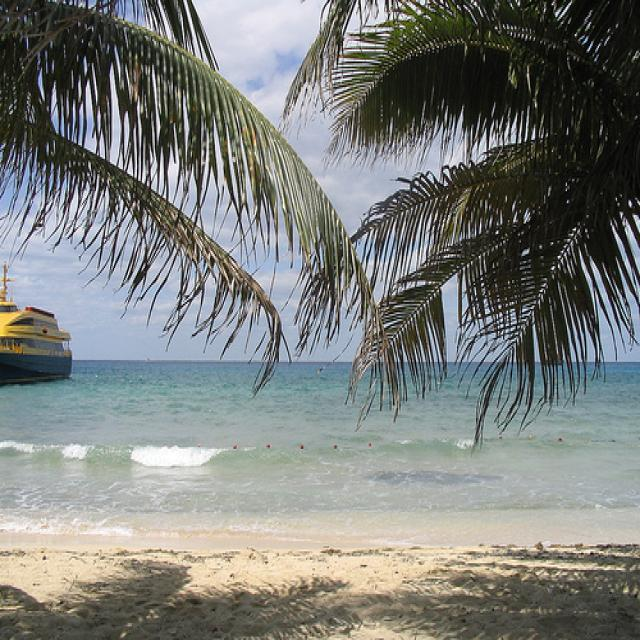boat: (1, 262, 73, 392)
